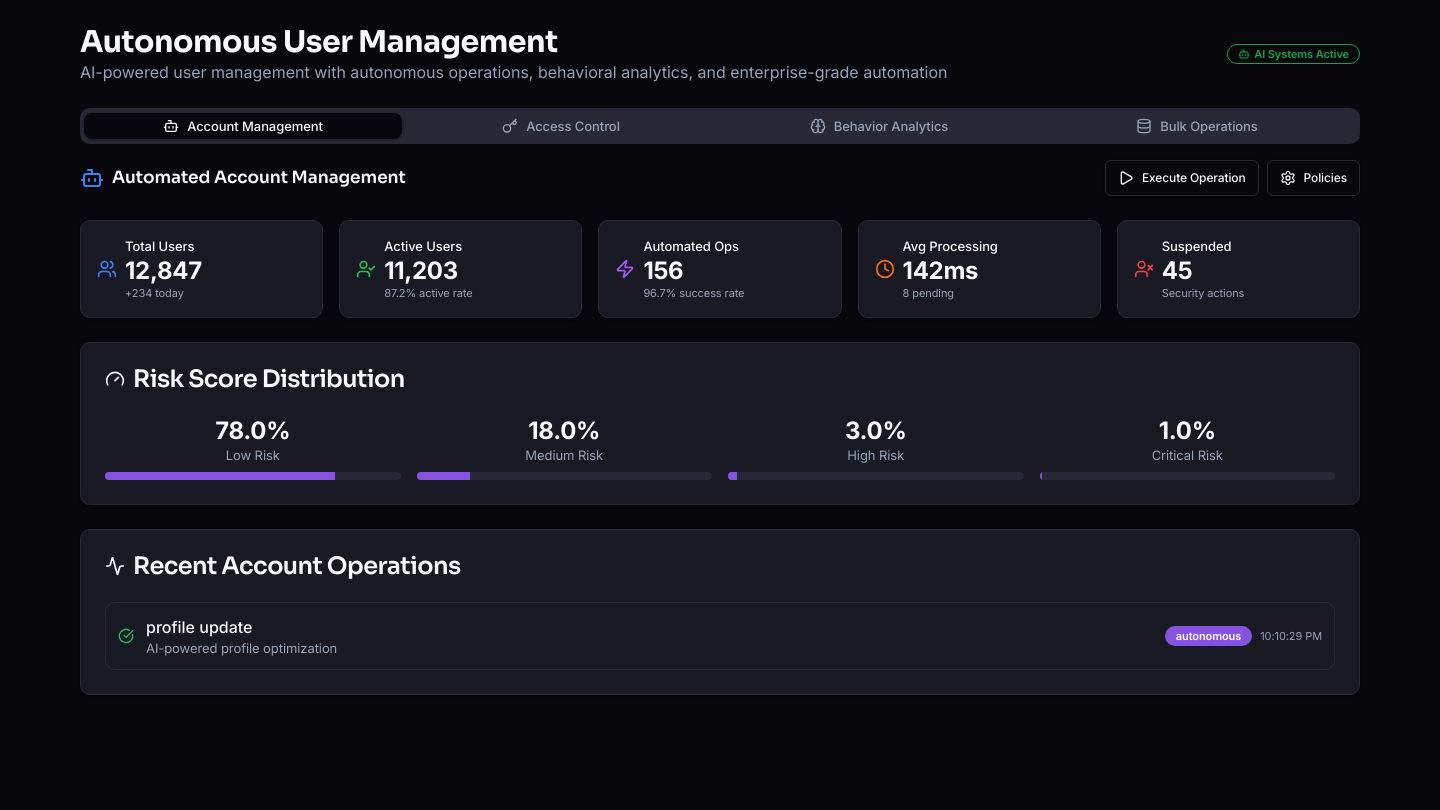
Test case: AutonomousUserManagementDashboard › displays RBAC metrics correctly
This screenshot has width=1440, height=810.
Click the tab "Access Control" at (561, 126), box x1=402 y1=113 x2=720 y2=139
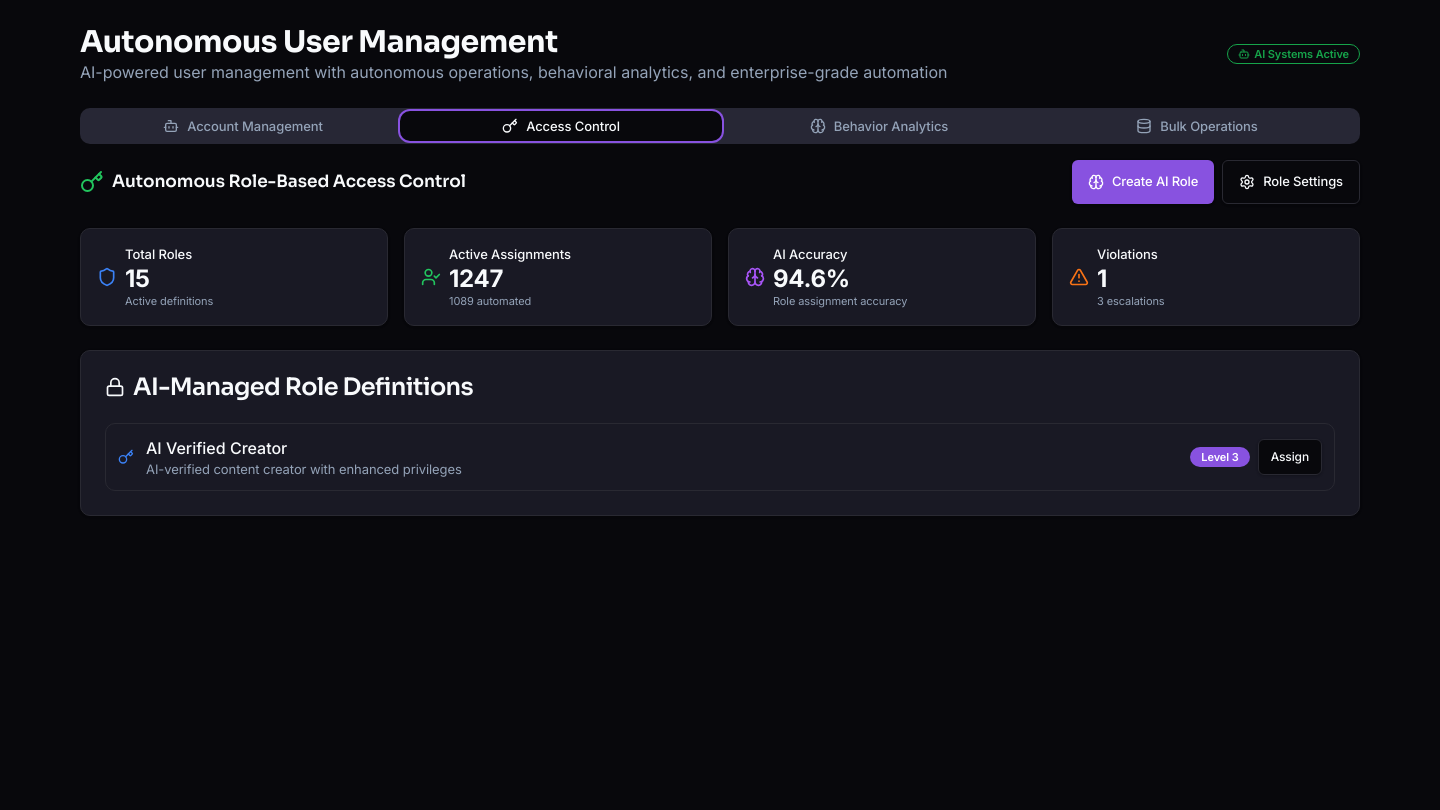
Expected: the text "15" is shown, x1=125 y1=264 x2=150 y2=293
Result: the text "1247" is shown at x1=449 y1=264 x2=503 y2=293
Result: the text "94.6%" is shown at x1=773 y1=264 x2=850 y2=293
